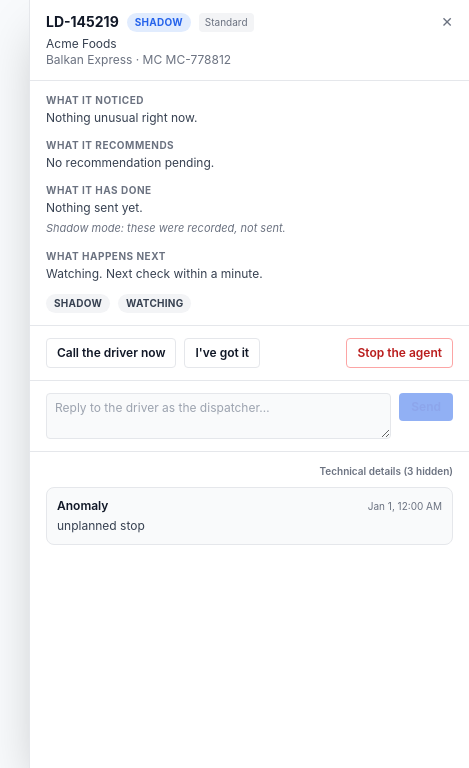
AgentDrawer › technical details › shows every entry once the toggle is clicked
The width and height of the screenshot is (469, 768).
What coordinates should you click on to do the following:
click the button with test id "timeline-technical-toggle"
I would click on:
 (386, 471)
Its box is [320,464,453,478].
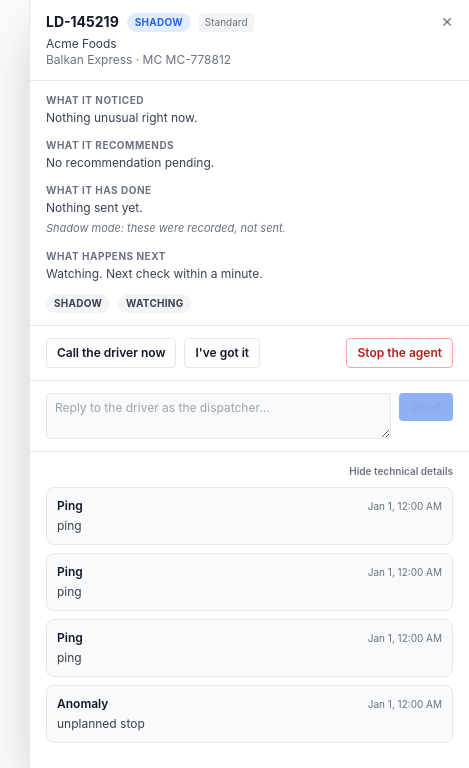
Expected: the number of list items with test id "timeline-entry" is 4, [46,486,453,544]; [46,552,453,610]; [46,618,453,676]; [46,684,453,742]
